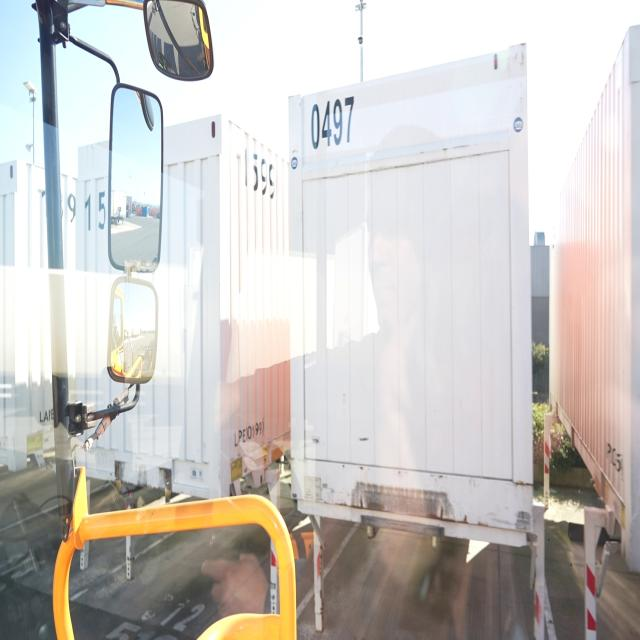Code: (312, 92, 355, 152), (240, 146, 282, 202)
